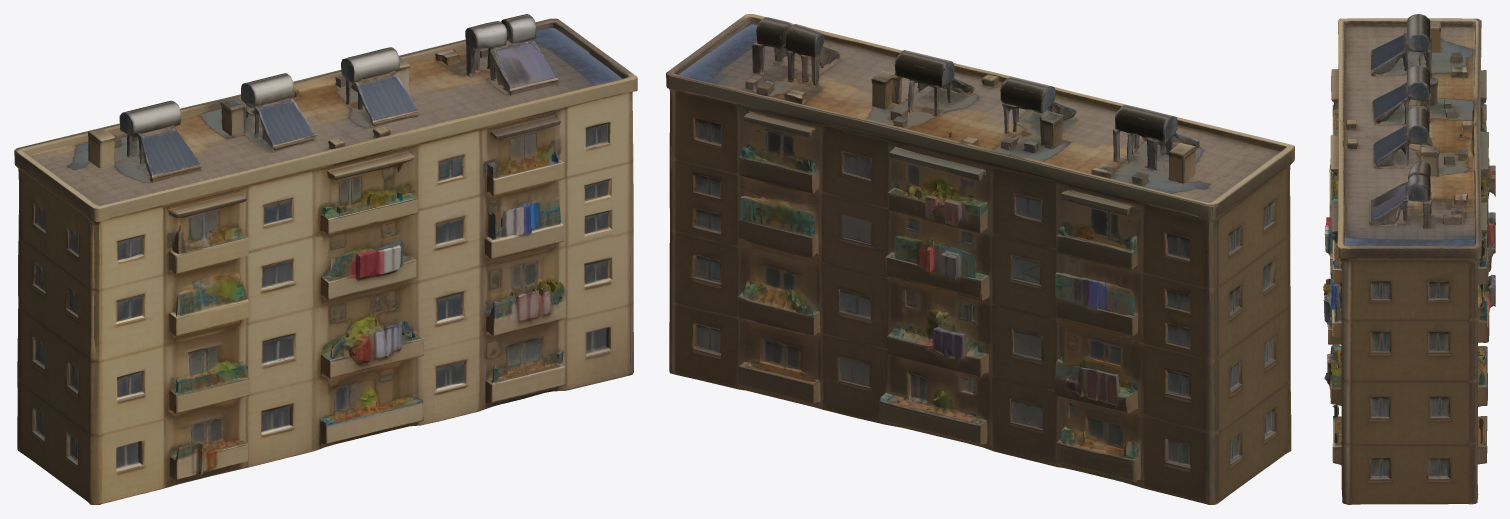
Rendered from bld_shikun_block.glb.
The picture shows the model from 3 angles, left to right: view 1: azimuth 30°, elevation 25°; view 2: azimuth 150°, elevation 25°; view 3: azimuth 270°, elevation 25°; orthographic projection. The views are drawn at different scales.
Visible parts, largest first — view 1: geometry_0; view 2: geometry_0; view 3: geometry_0.
Part boxes in pixels (x1,y1,x2,y2): geometry_0: [14, 14, 637, 504]; geometry_0: [666, 14, 1294, 504]; geometry_0: [1323, 14, 1495, 504].
Bounding box in the file's own units: 29.42 × 17.68 × 9.37.
Materials: 1 (1 with a texture image).
